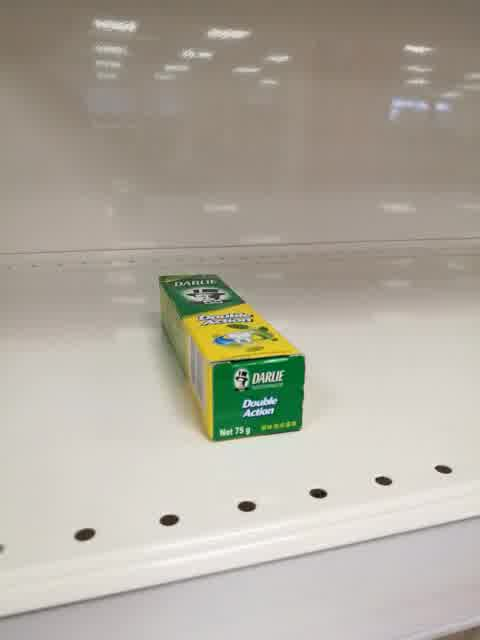toothpaste: (160, 274, 306, 444)
